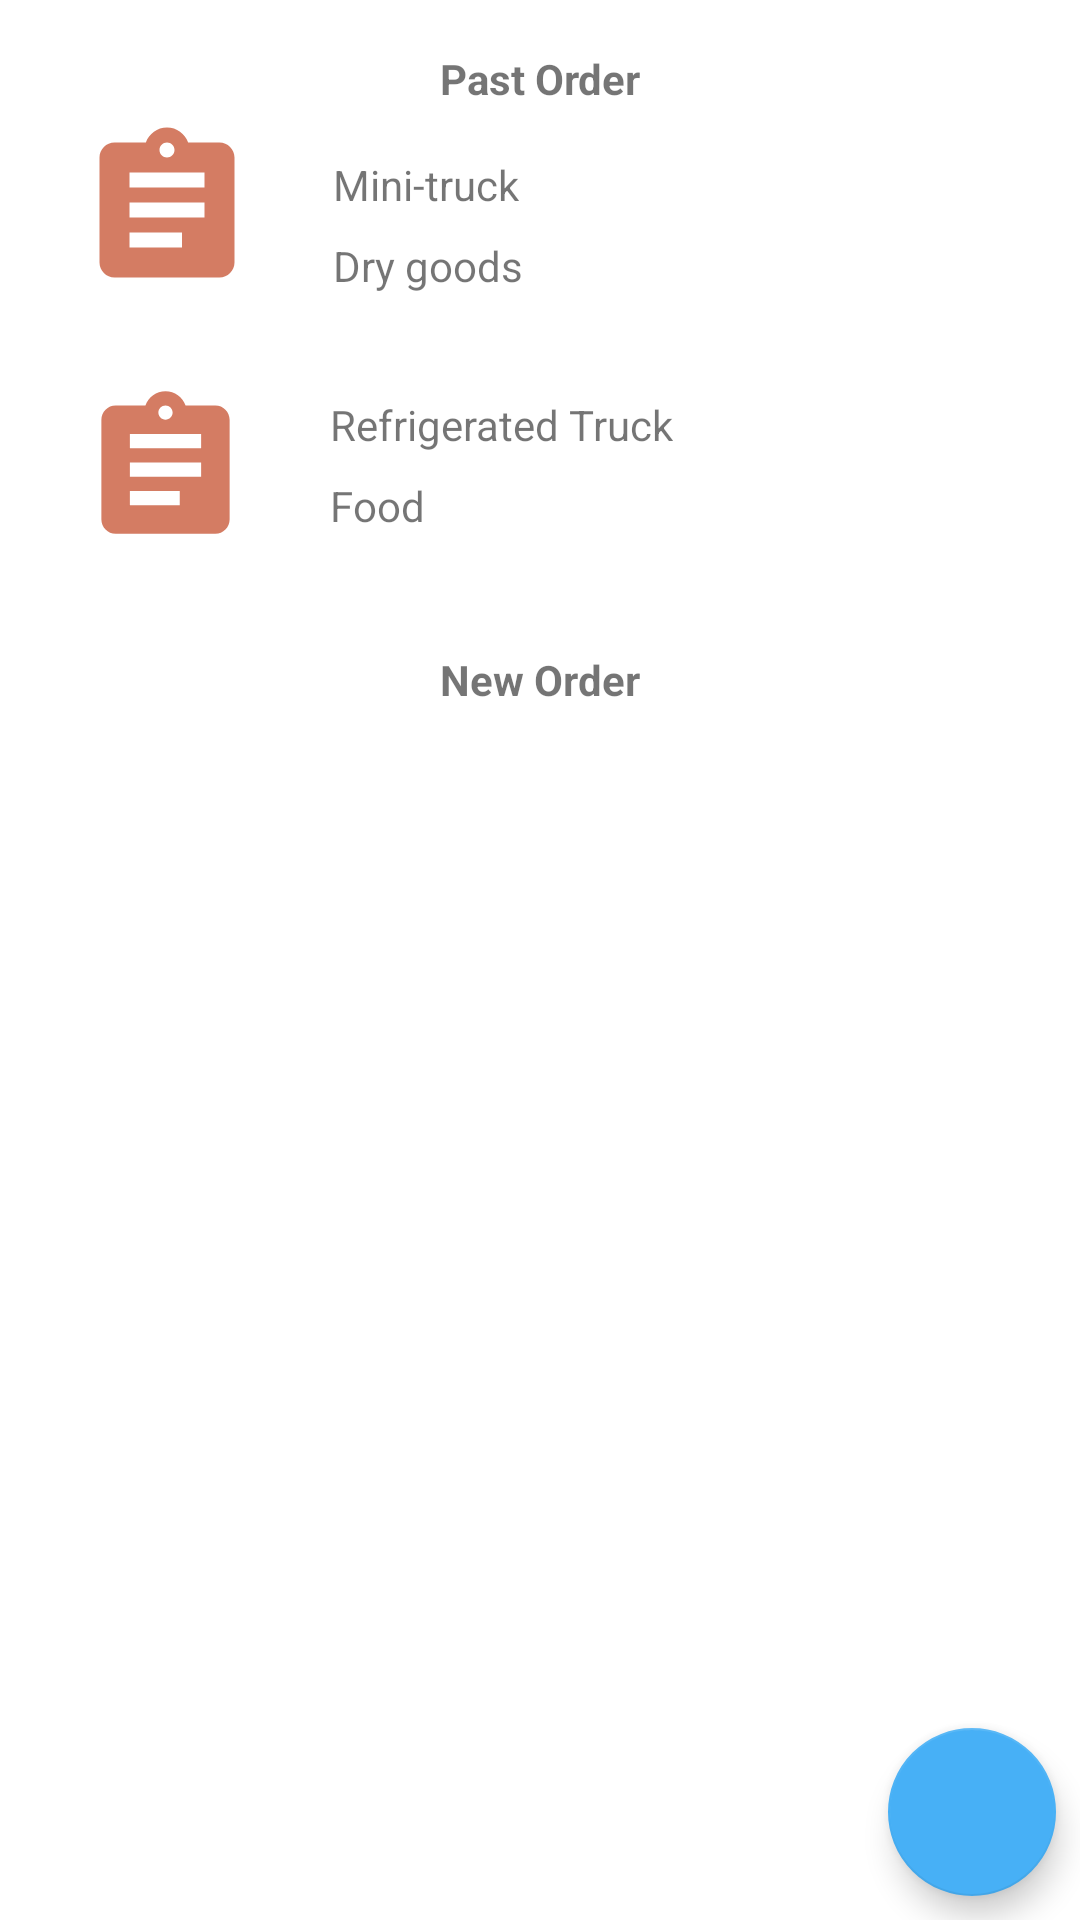

Icon bounding boxes for this 1080 x 1920 phone screenshot, format (x1, y1, x2, y2):
order: (99, 127, 235, 278), (101, 391, 230, 534)
